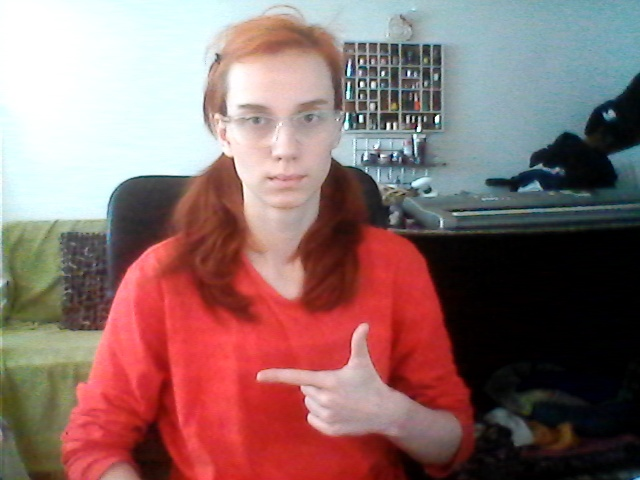dva_dve: (255, 320, 393, 438)
